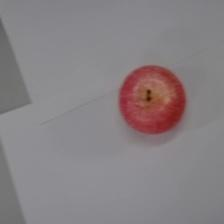red: (120, 65, 184, 132)
